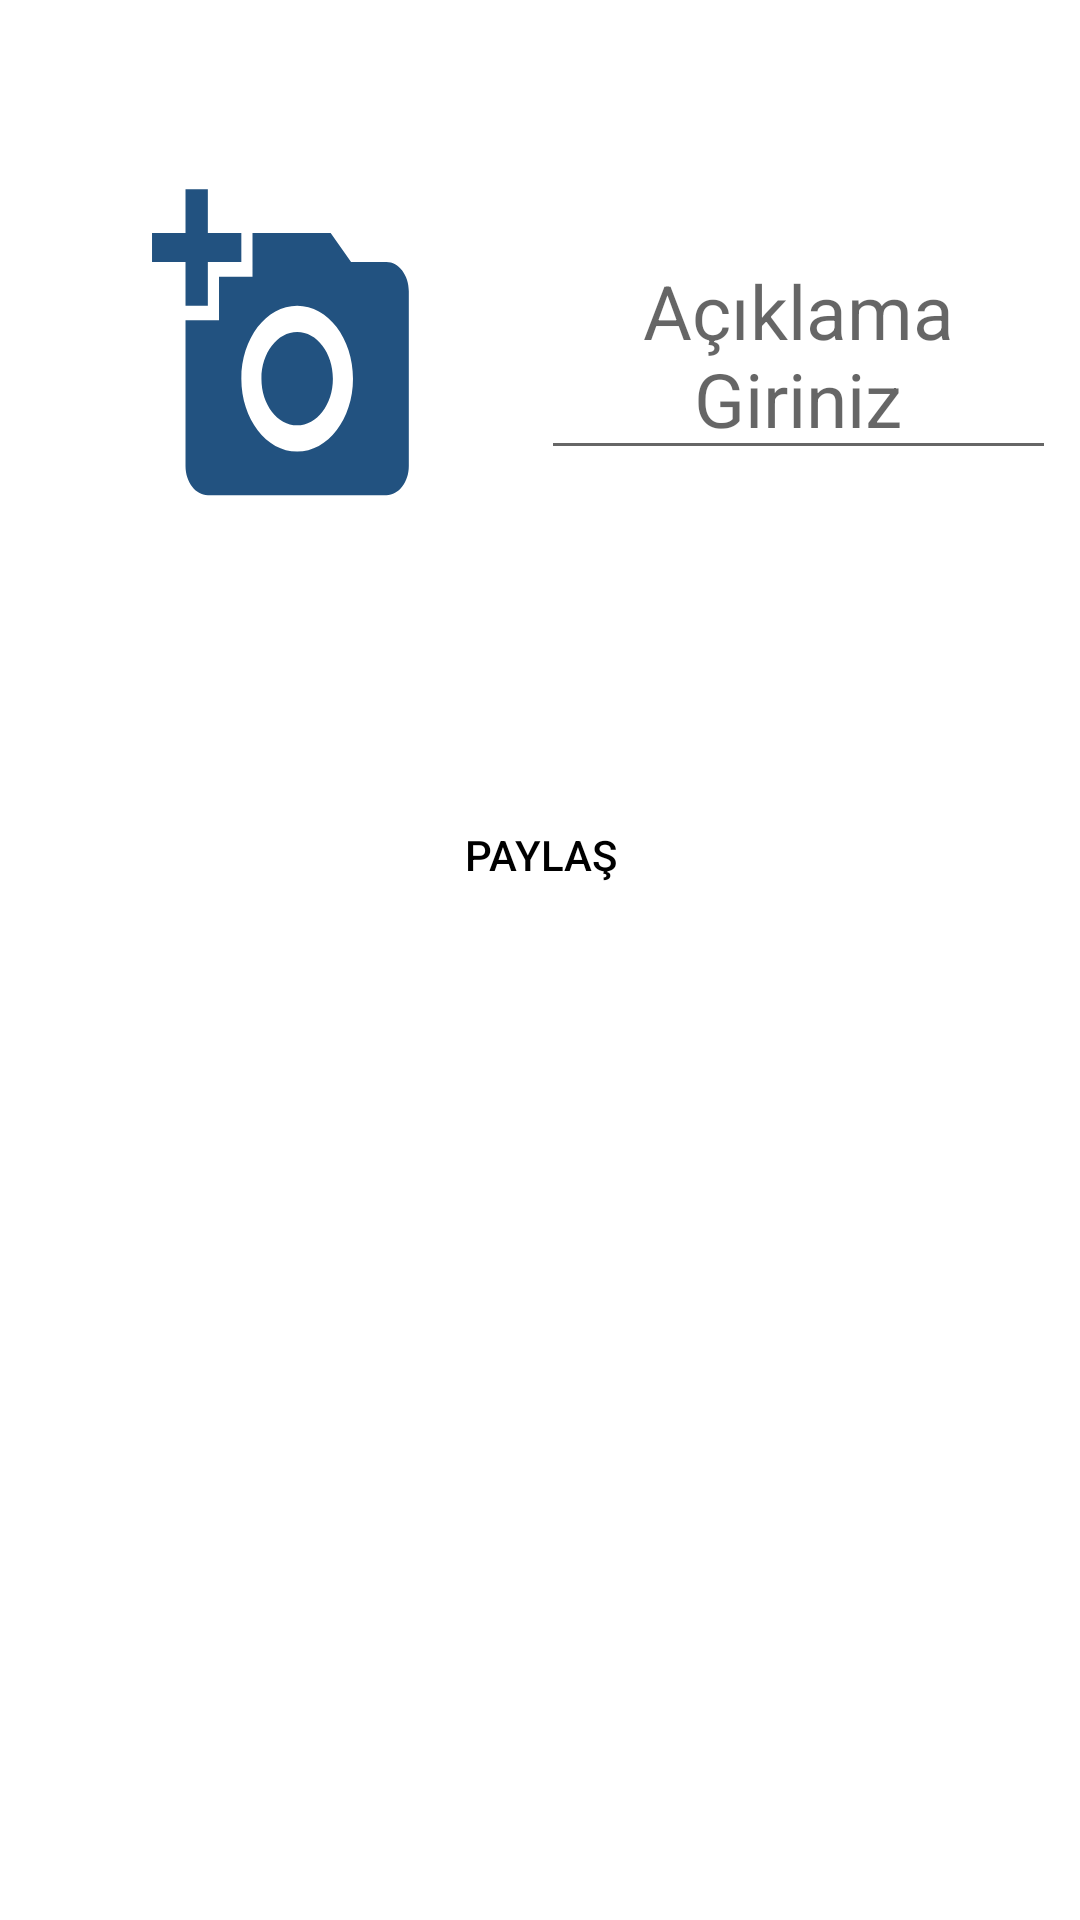

Where icons sit on this 1080 × 1920 app screen, as [x1, y1, x2, y2]:
addphoto mavi: [152, 189, 409, 496]
